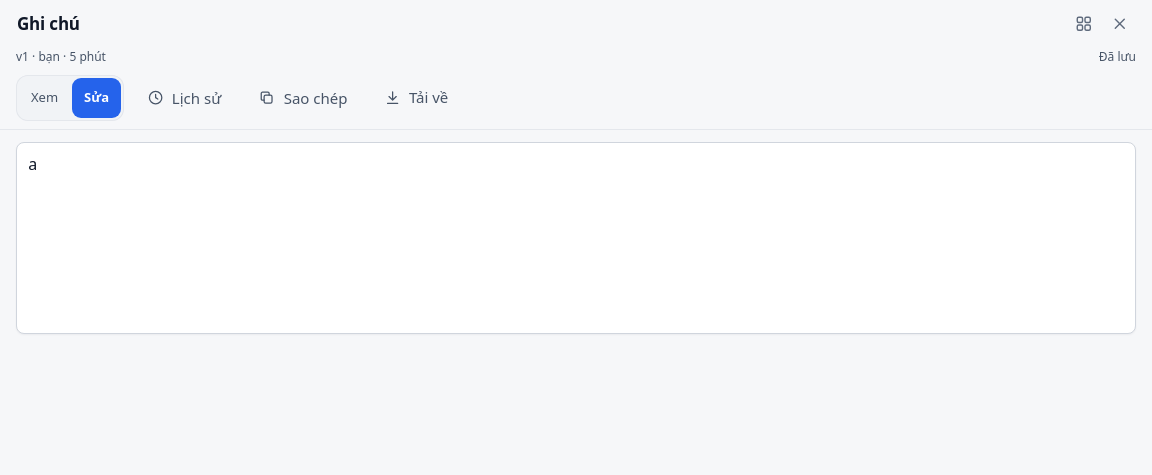
Test case: notices › shows the largest canvases when the server is full, saves on its own no more, and saves on Cmd+S
Replace the text in the text box named "Nội dung canvas" with "ab" at (576, 238), box x1=16 y1=142 x2=1136 y2=334
Wait 1500 ms
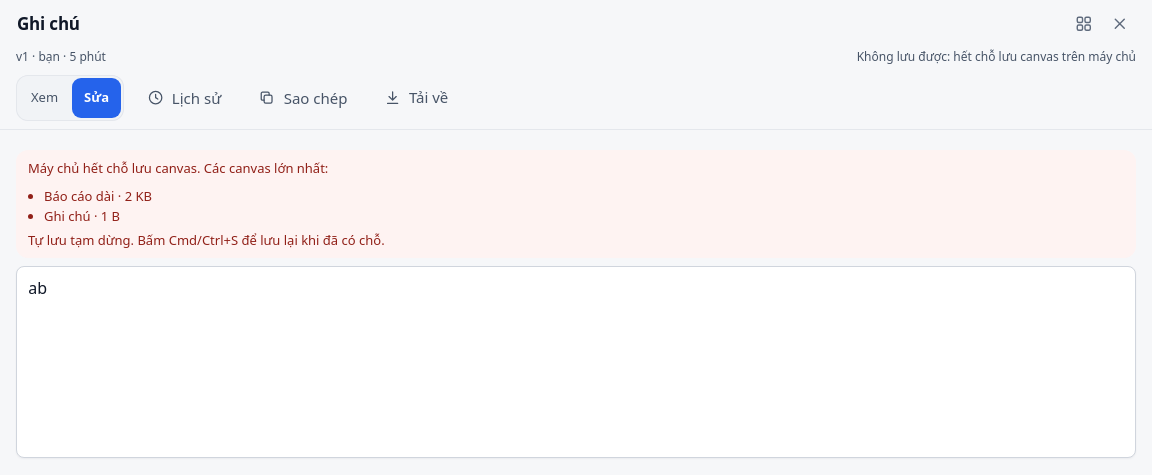
Result: the list items read "Báo cáo dài · 2 KB", "Ghi chú · 1 B", in this order at x1=44 y1=187 x2=152 y2=205; x1=44 y1=207 x2=120 y2=225
Result: the 2nd message shows "Máy chủ hết chỗ lưu canvas. Các canvas lớn nhất:" at x1=28 y1=159 x2=328 y2=177
Result: the 2nd message shows "Tự lưu tạm dừng. Bấm Cmd/Ctrl+S để lưu lại khi đã có chỗ." at x1=28 y1=231 x2=385 y2=249
Replace the text in the text box named "Nội dung canvas" with "abc" at (576, 362), box x1=16 y1=266 x2=1136 y2=458
Wait 1500 ms
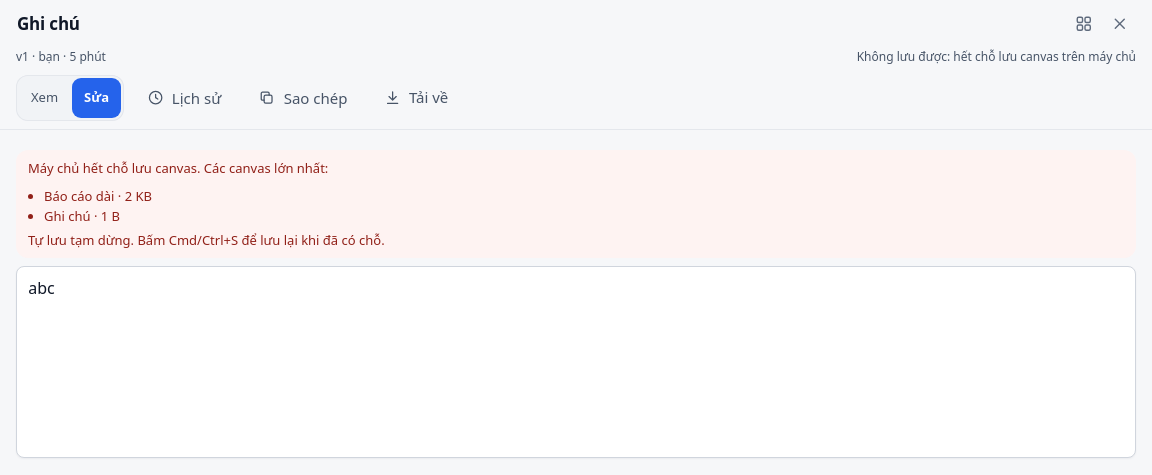
Press s in the text box named "Nội dung canvas", box x1=16 y1=266 x2=1136 y2=458
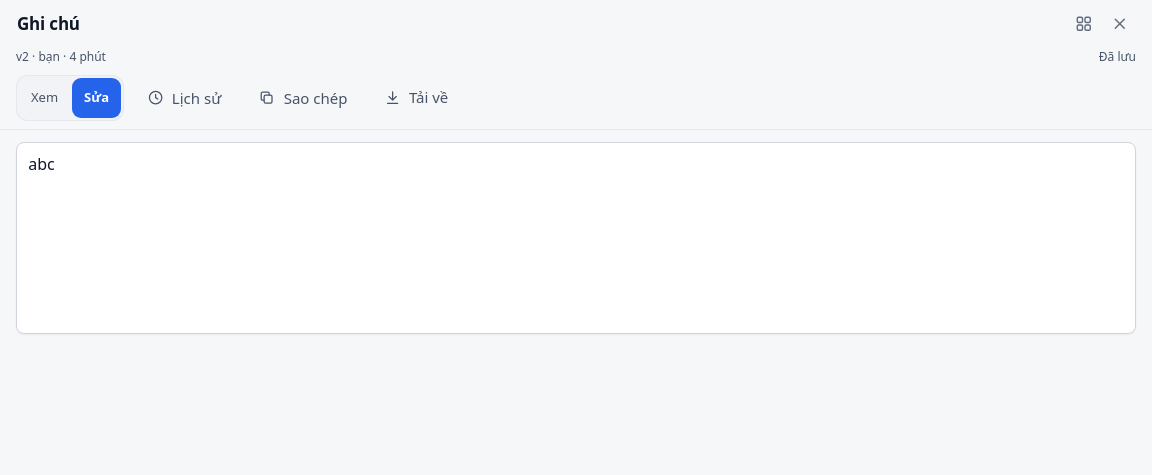
Result: the message with class "canvas-save-state" reads "Đã lưu" at x1=1099 y1=48 x2=1136 y2=65
